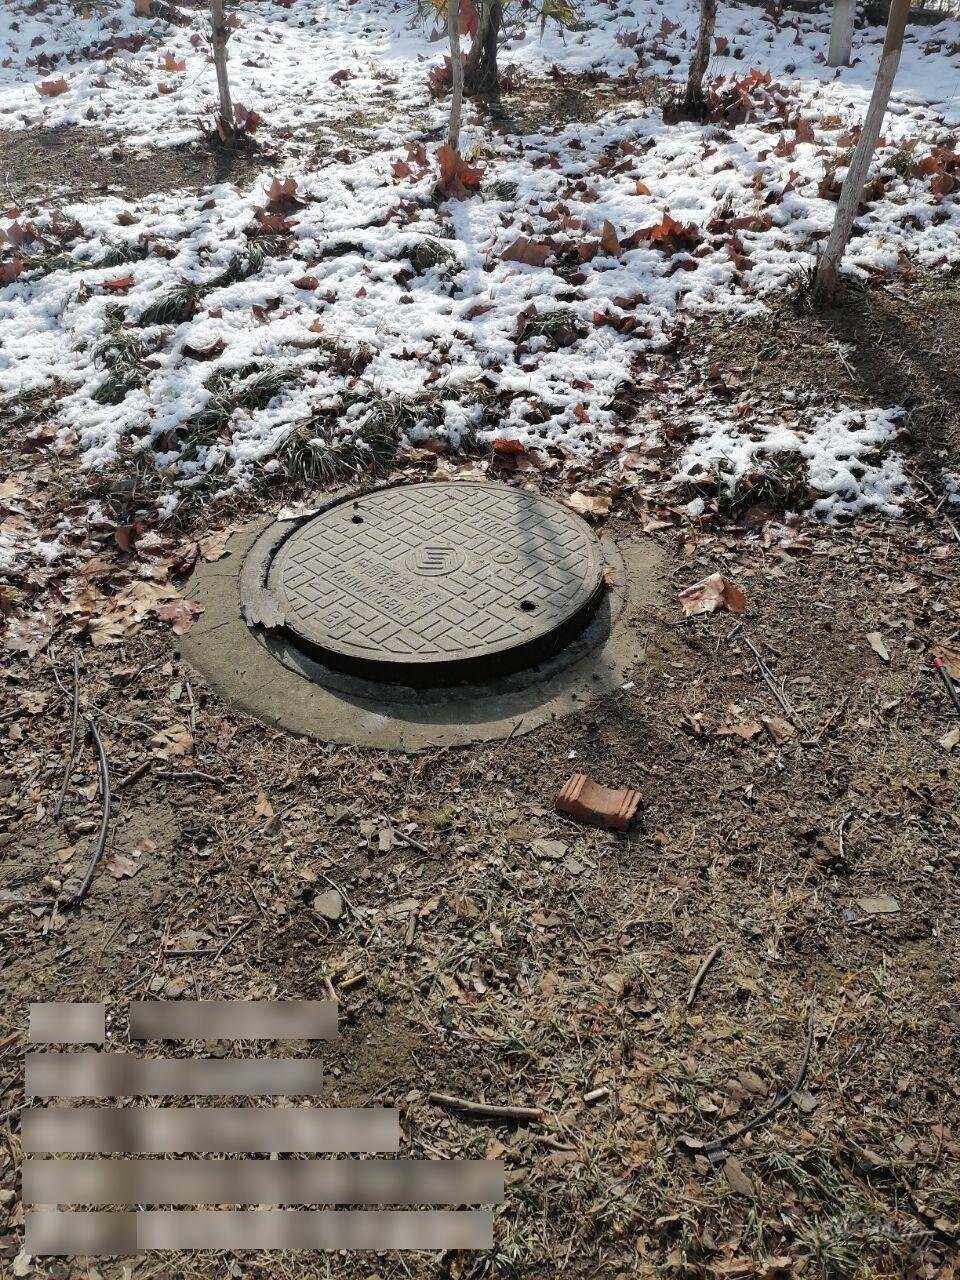wellcover: (196, 435, 639, 698)
